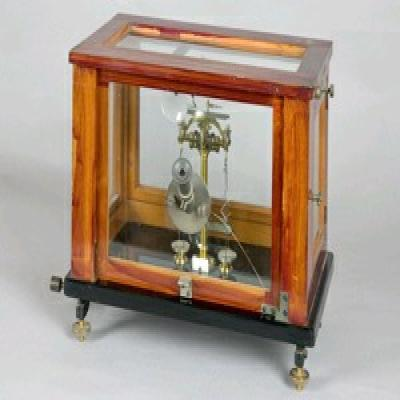technique: (49, 14, 336, 392)
